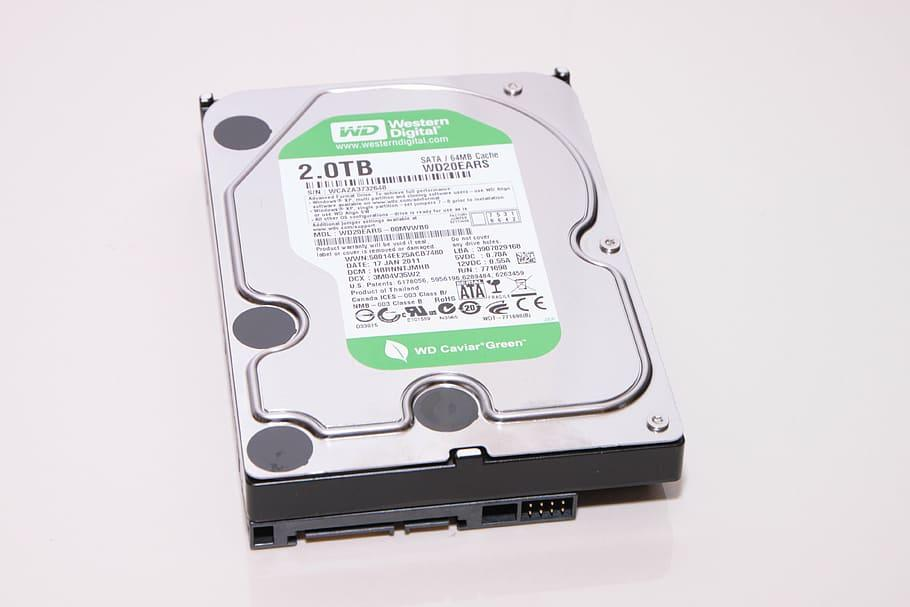internal HDD: (199, 72, 687, 554)
